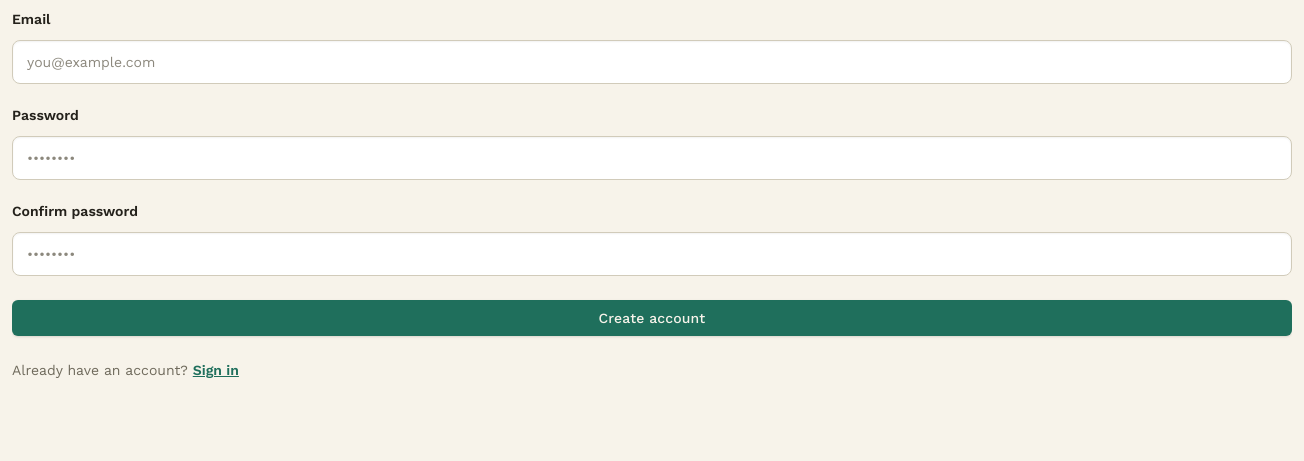
Test: RegisterForm › shows a mutation error message
In the field labelled "Email": coordinates (652, 62) [12,40,1292,84], type "test@example.com"
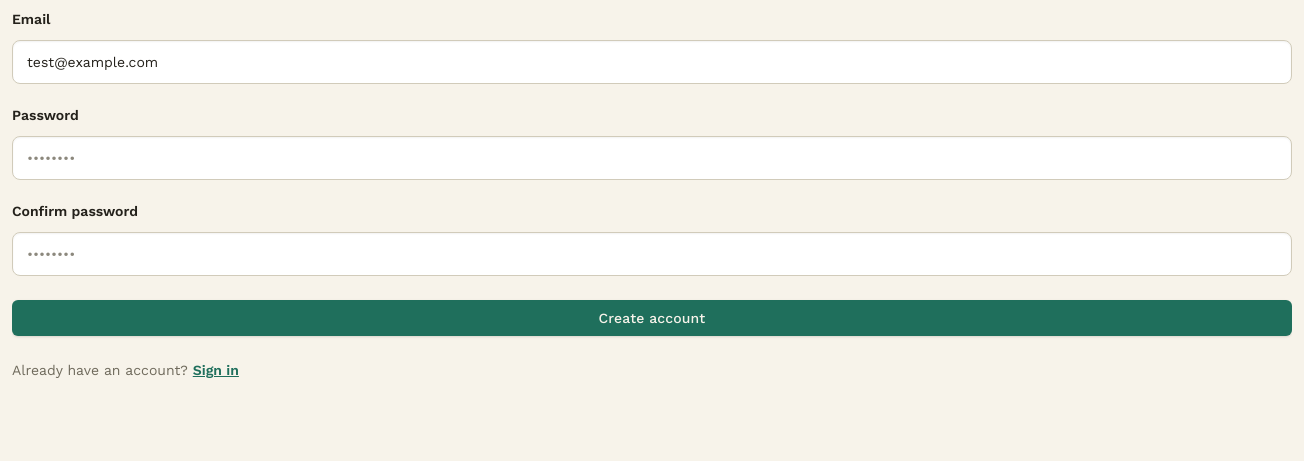
In the password field labelled "Password": coordinates (652, 158) [12,136,1292,180], type "Correct-horse1"
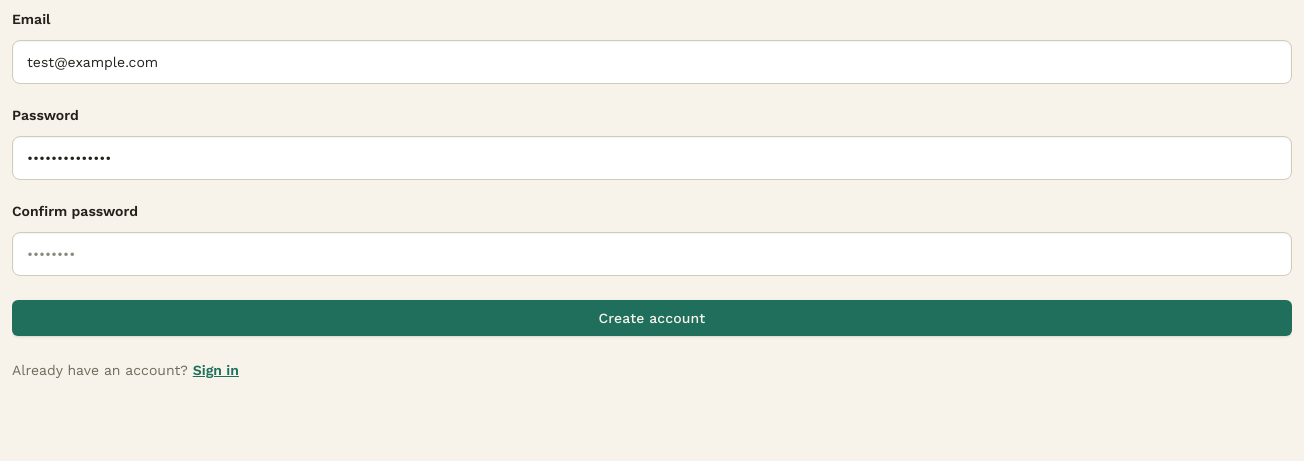
In the password field labelled "Confirm password": coordinates (652, 254) [12,232,1292,276], type "Correct-horse1"
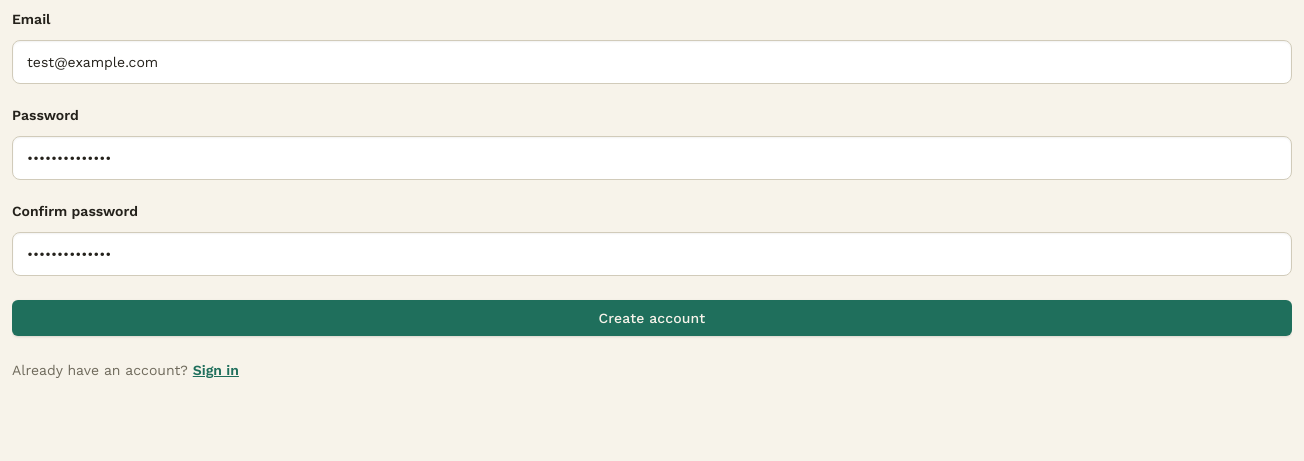
Click the button "Create account": coordinates (652, 318) [12,300,1292,336]
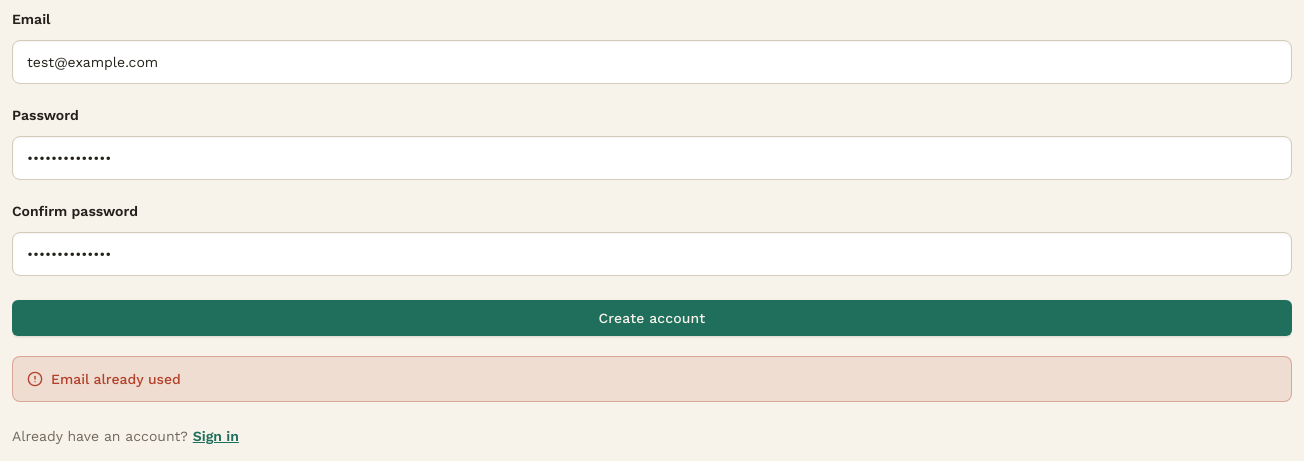
Now the text "Email already used" is shown, box [51,369,181,389]
